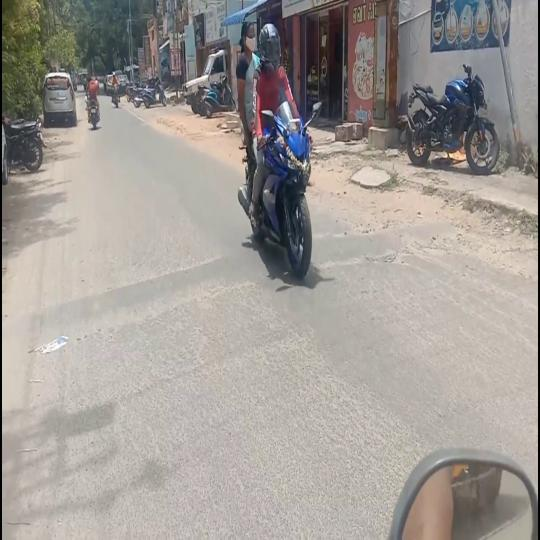Speed Bump: (4, 249, 284, 354), (313, 220, 462, 266)
